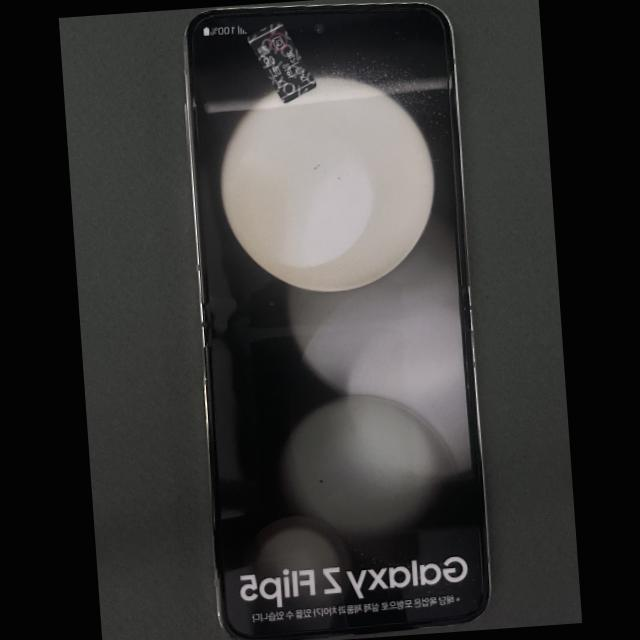phone: (184, 4, 488, 639)
sticker: (246, 22, 316, 103)
